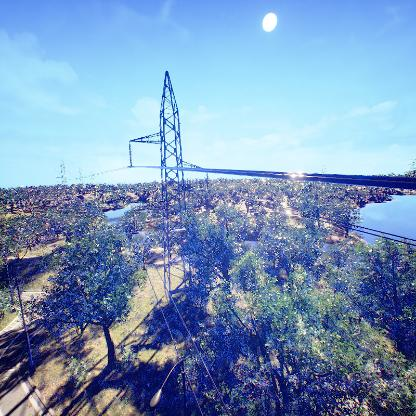tower: (127, 70, 213, 312)
